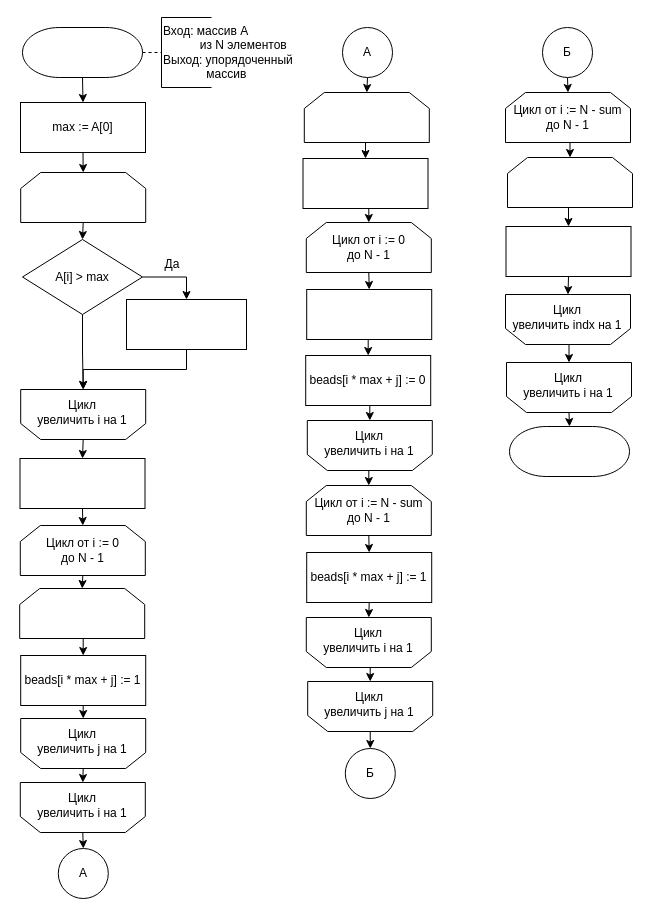
Image size: 651x916. Some labels were removed from this diagram. Each missing label, with the centre of its shape:
A[i] := indx: point (568, 251)
beads[max * N]: point (82, 483)
max := A[i]: point (186, 324)
sum := 0: point (365, 183)
sum := sum + beads[i * max + j]: point (369, 314)
Конец: point (569, 451)
Начало: point (82, 52)
Цикл от i := 1 до N -1: point (83, 197)
Цикл от indx := 0 до max И beads[i * max + indx]: point (569, 182)
Цикл от j := 0 до A[i] - 1: point (82, 613)
Цикл от j := 0 до max: point (366, 117)
